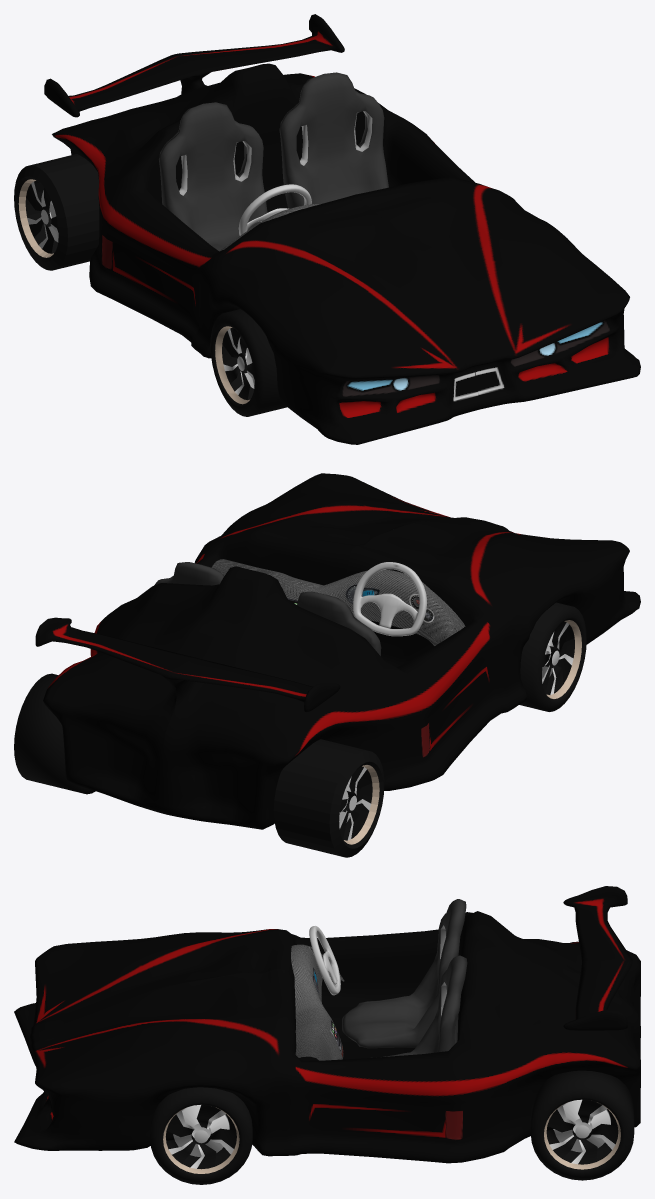
File: lowo ireng V1.fbx
3 views of the same model, one above another, from view 1: azimuth 30°, elevation 25°; view 2: azimuth 150°, elevation 25°; view 3: azimuth 270°, elevation 25° (orthographic). The views are drawn at different scales.
Parts seen in each view (by area): view 1: Cube.003, Cube.001, Cube.004, Cylinder.004, Cylinder.003, Cube; view 2: Cube.003, Cylinder.004, Cylinder.003, Plane, Cylinder.005, Cube, Cube.001, Cube.004; view 3: Cube.003, Cylinder.005, Cylinder.006, Cube.001, Plane, Cube.004, Cube.
Part boxes in pixels (bbox=[...]): Cube.003: bbox=[44, 14, 640, 444]; Cube.001: bbox=[159, 102, 267, 250]; Cube.004: bbox=[279, 72, 388, 208]; Cylinder.004: bbox=[14, 154, 99, 270]; Cylinder.003: bbox=[210, 309, 286, 416]; Cube: bbox=[238, 184, 311, 235]; Cube.003: bbox=[35, 473, 640, 829]; Cylinder.004: bbox=[273, 739, 384, 857]; Cylinder.003: bbox=[519, 602, 586, 711]; Plane: bbox=[212, 559, 465, 646]; Cylinder.005: bbox=[14, 673, 95, 794]; Cube: bbox=[353, 562, 426, 636]; Cube.001: bbox=[297, 591, 381, 655]; Cube.004: bbox=[154, 562, 224, 585]; Cube.003: bbox=[14, 886, 640, 1163]; Cylinder.005: bbox=[530, 1070, 634, 1180]; Cylinder.006: bbox=[150, 1087, 252, 1184]; Cube.001: bbox=[342, 899, 466, 1048]; Plane: bbox=[291, 944, 344, 1060]; Cube.004: bbox=[371, 955, 467, 1057]; Cube: bbox=[309, 926, 340, 995].
Bounding box in the file's own units: 652 × 360 × 1056.
